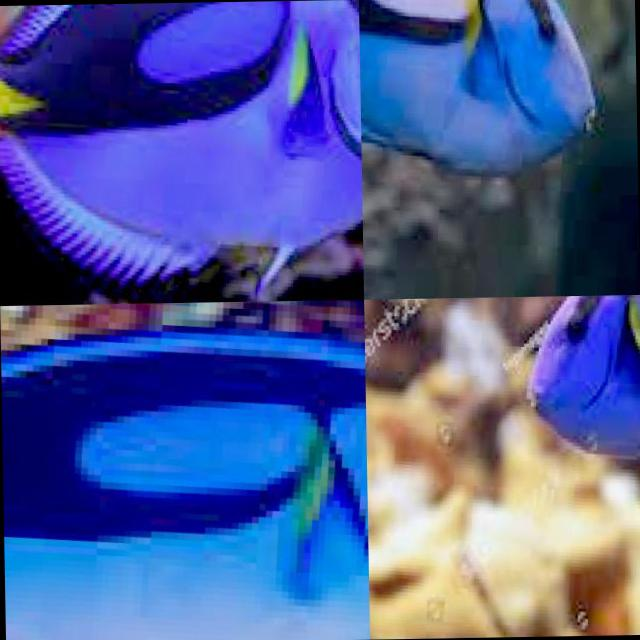BlueTang: (0, 325, 369, 640), (0, 0, 363, 305), (358, 0, 597, 172), (523, 294, 640, 467)
